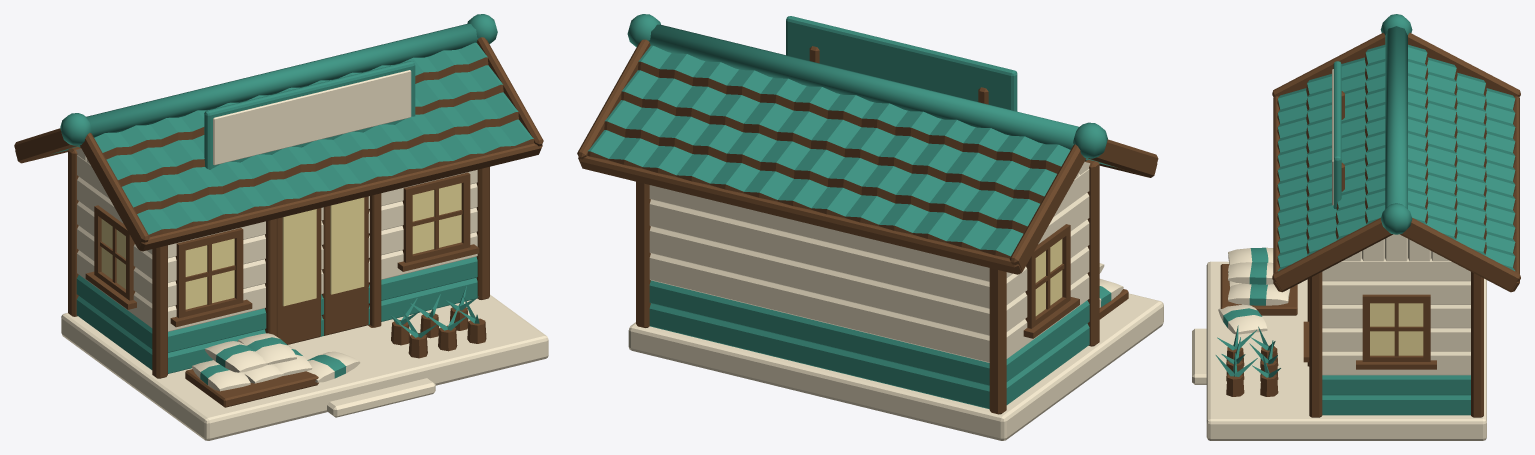
Rendered from toko.glb.
3 views of the same model, side by side, from view 1: azimuth 30°, elevation 25°; view 2: azimuth 150°, elevation 25°; view 3: azimuth 270°, elevation 25° (orthographic). The views are drawn at different scales.
Parts seen in each view (by area): view 1: toko_mesh, SignBoard; view 2: toko_mesh; view 3: toko_mesh.
Part boxes in pixels (x1=…): toko_mesh: x1=14, y1=14, x2=548, y2=440; SignBoard: x1=213, y1=70, x2=411, y2=165; toko_mesh: x1=577, y1=14, x2=1163, y2=440; toko_mesh: x1=1192, y1=14, x2=1520, y2=440.
Size of the model in its own units: 5.93 by 3.46 by 4.07.
